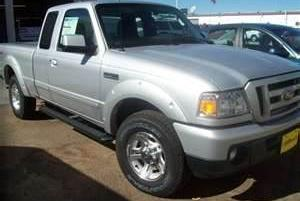front_view: (194, 74, 300, 162)
headlight: (195, 87, 251, 121)
side_glass: (42, 12, 103, 60)
